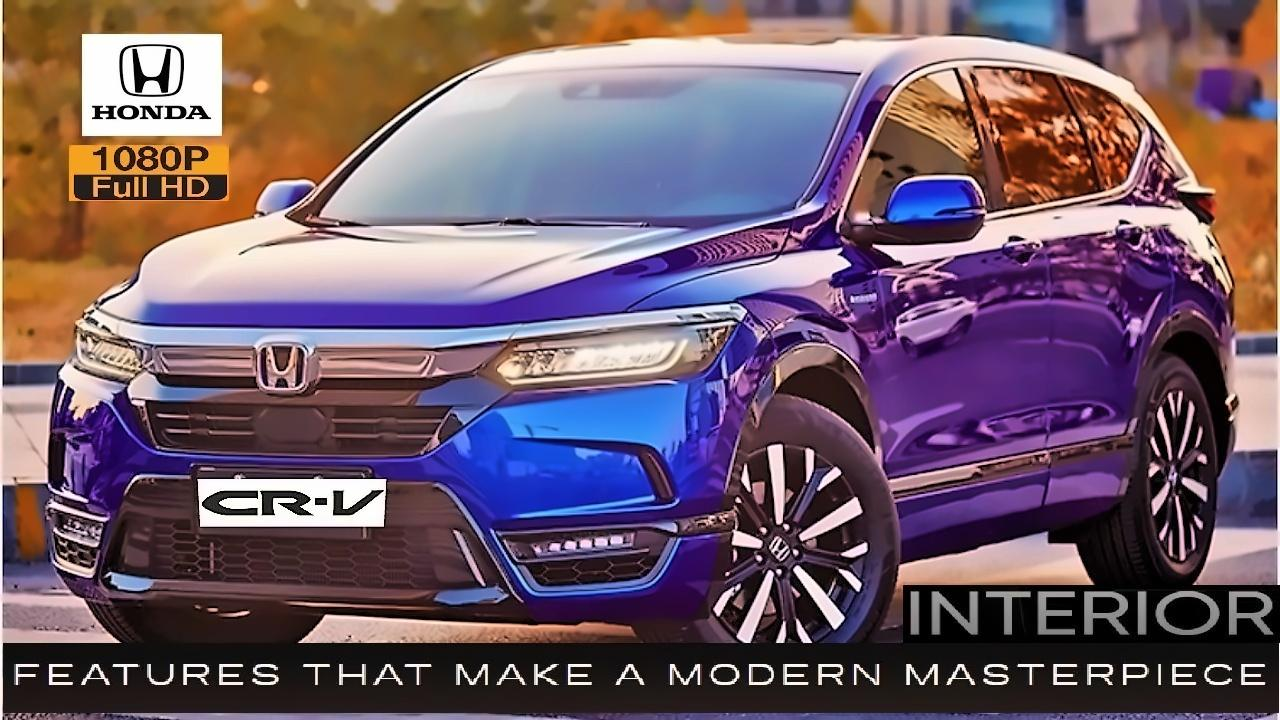Car hood: (97, 215, 798, 337)
Fender - -F-L-: (713, 209, 902, 509)
Fender - -R-L-: (1099, 126, 1242, 458)
Front bumper: (43, 318, 778, 626)
Headlight - -L-: (476, 300, 747, 400)
Headlight - -R-: (71, 302, 144, 384)
Passenger-s door - -F-L-: (810, 30, 1049, 563)
Passenger-s door - -R-L-: (966, 25, 1163, 569)
Rear light - -L-: (1170, 179, 1219, 226)
Side bumper - -L-: (900, 410, 1148, 597), (847, 167, 988, 253)
Side mirror - -R-: (245, 177, 322, 220)
